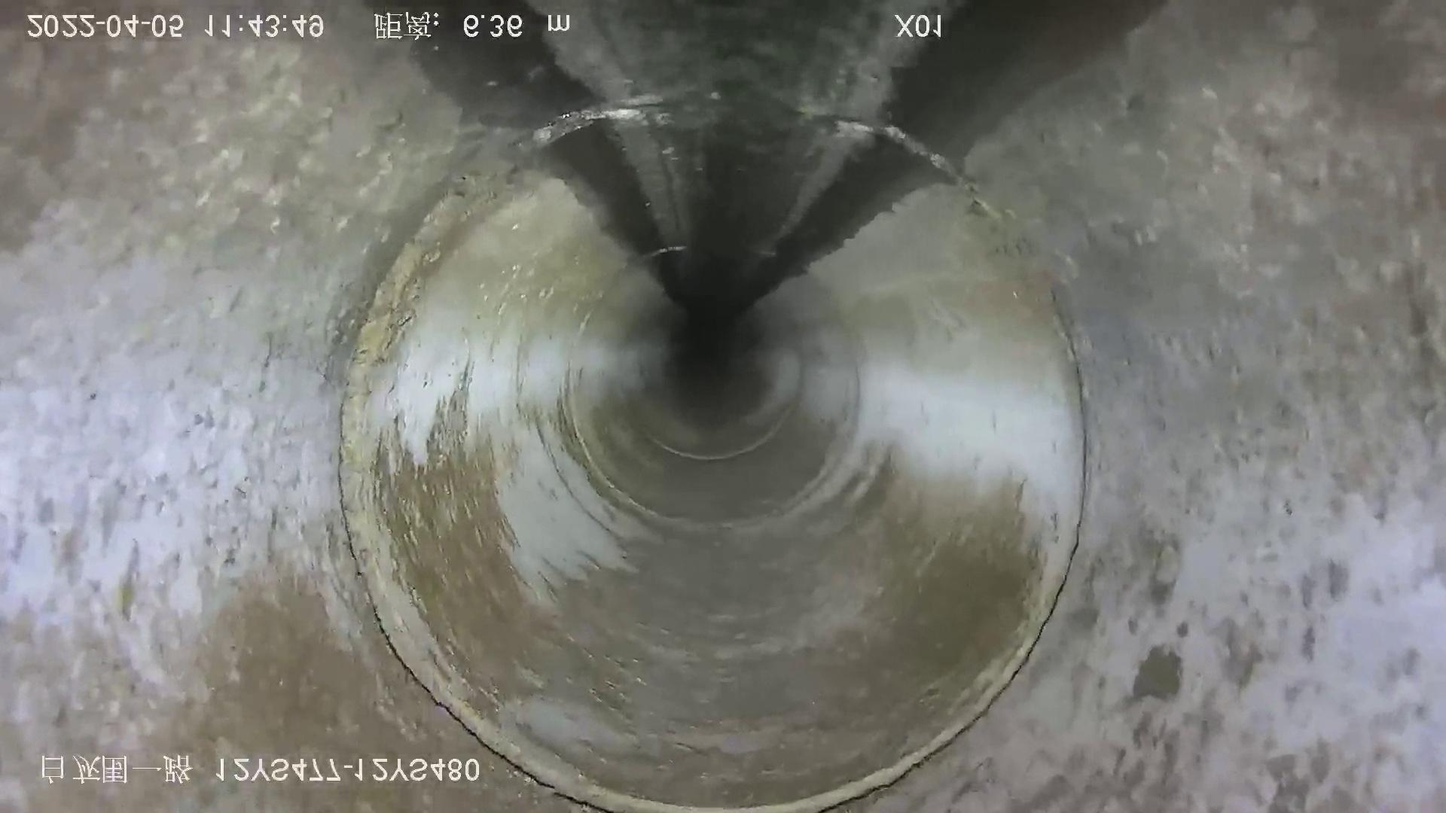CKTJ: (328, 89, 1102, 813)
